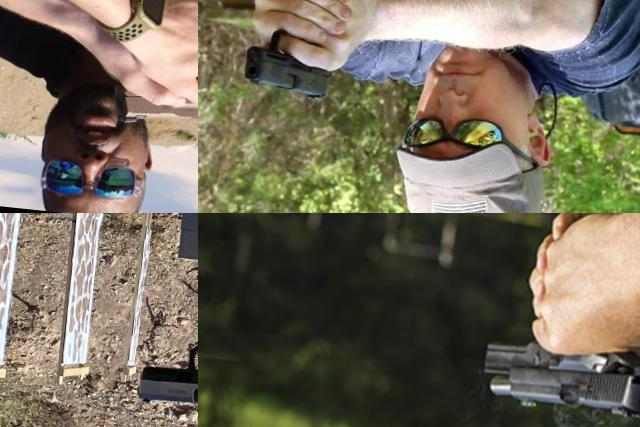handgun: (474, 277, 640, 425), (105, 37, 198, 141), (132, 273, 198, 419), (238, 16, 340, 103)
